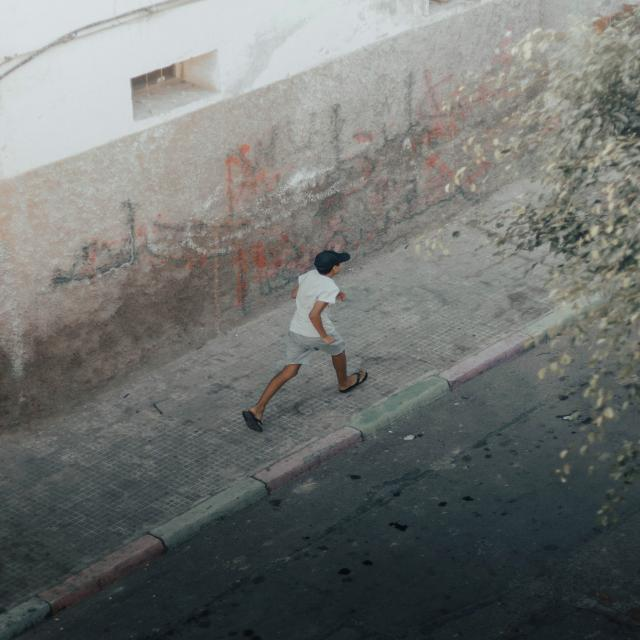adult: (244, 246, 367, 435)
